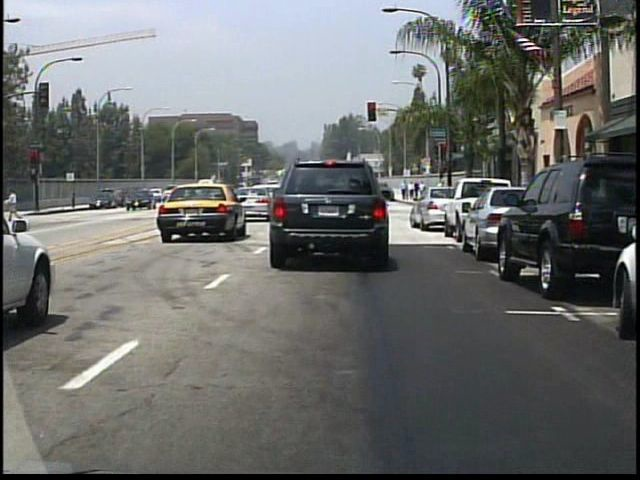person: (434, 177, 453, 213), (7, 188, 23, 222), (400, 179, 408, 201), (409, 180, 417, 202), (419, 182, 427, 200)
